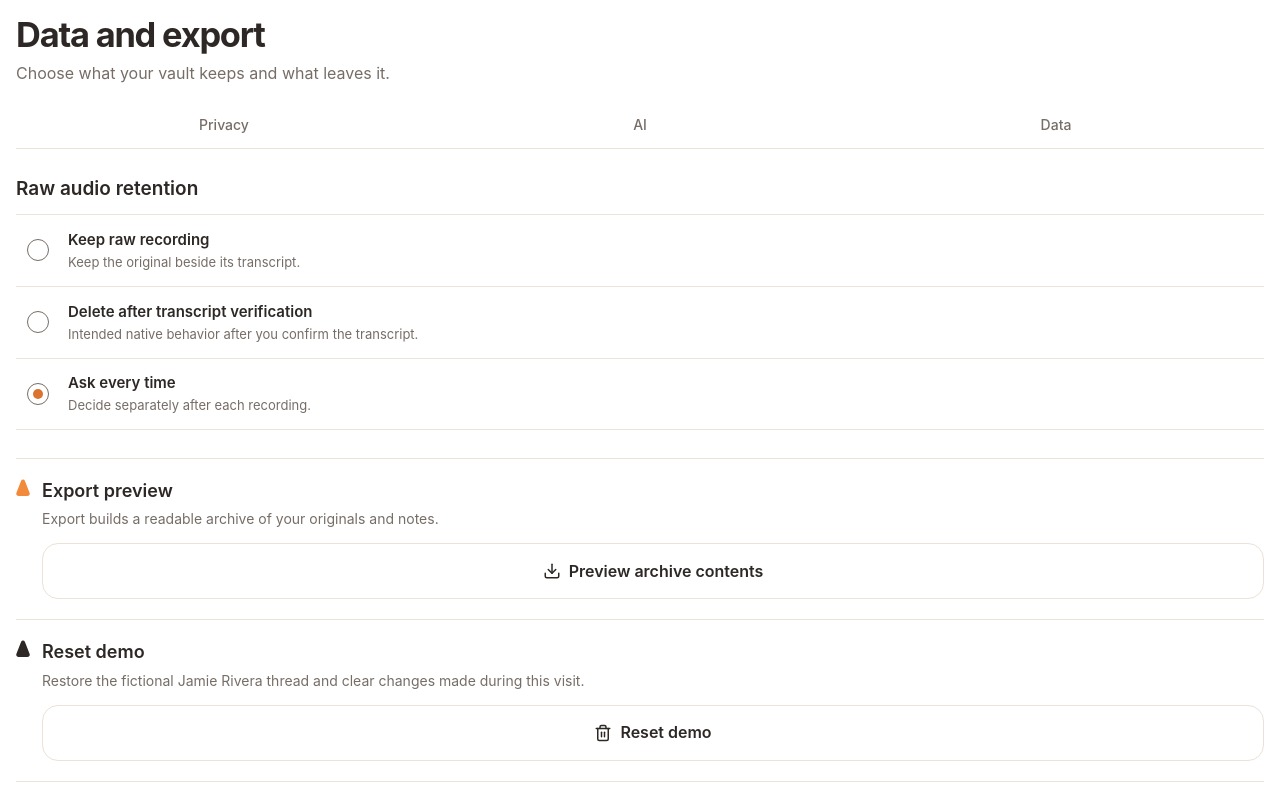
it: SettingsDataScreen › selects retention locally and keeps export an honest preview
Expected: the radio button labelled "Ask every time Decide separately after each recording." is checked, [16,358,1264,430]
Click the radio button labelled "Delete after transcript verification".
click(190, 311)  # box [16,286,1264,358]
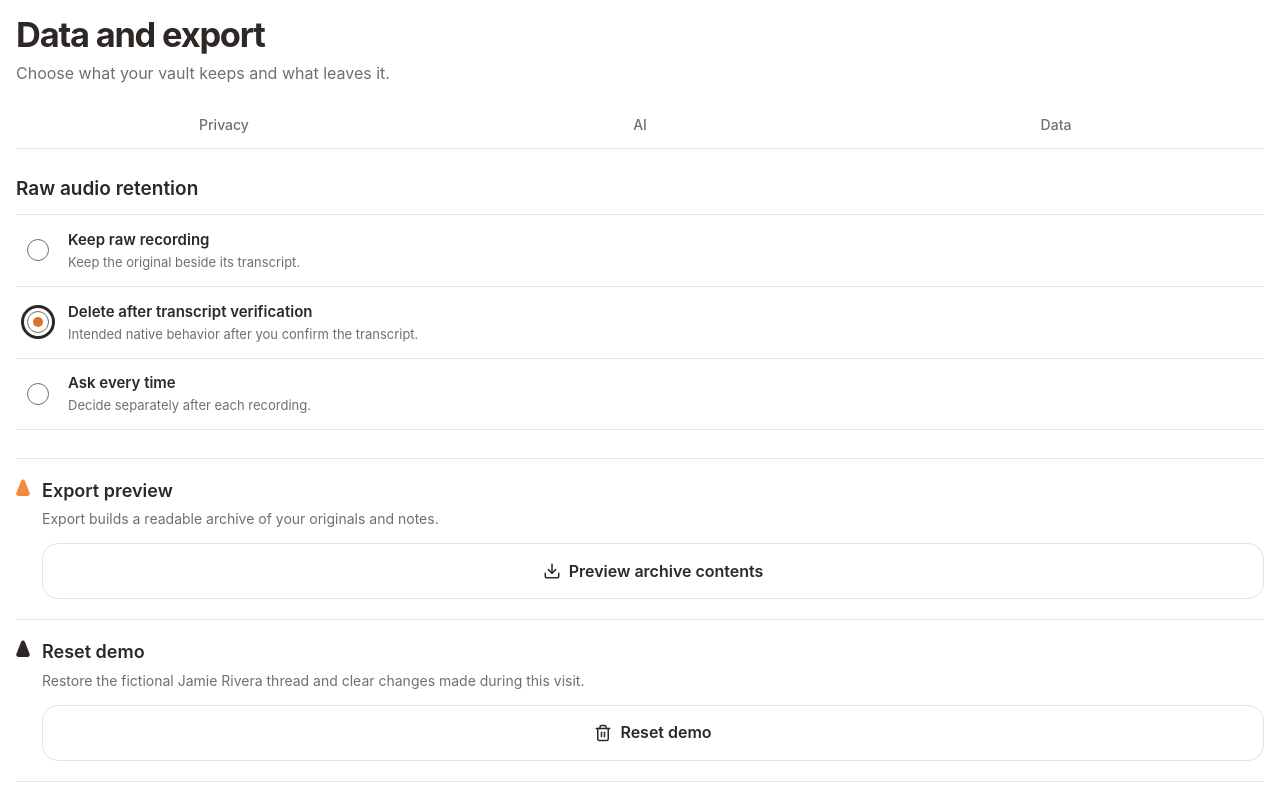
Expected: the text "Export builds a readable archive of your originals and notes." is shown, [42,510,439,527]
Expected: the radio button labelled "Delete after transcript verification" is checked, [16,286,1264,358]
Click the button "Preview archive contents".
click(653, 571)  # box [42,543,1264,599]
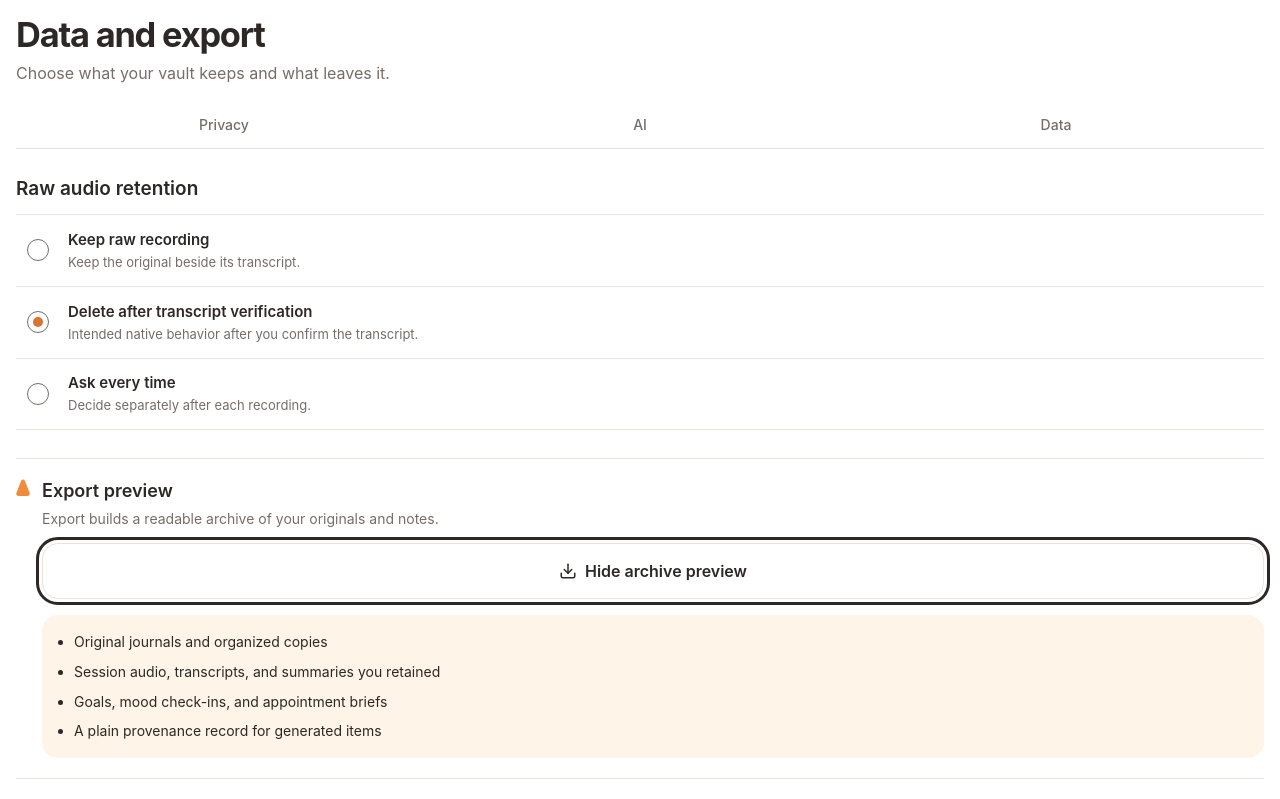
Expected: the list item "Original journals and organized copies" is shown, [74,633,328,650]
